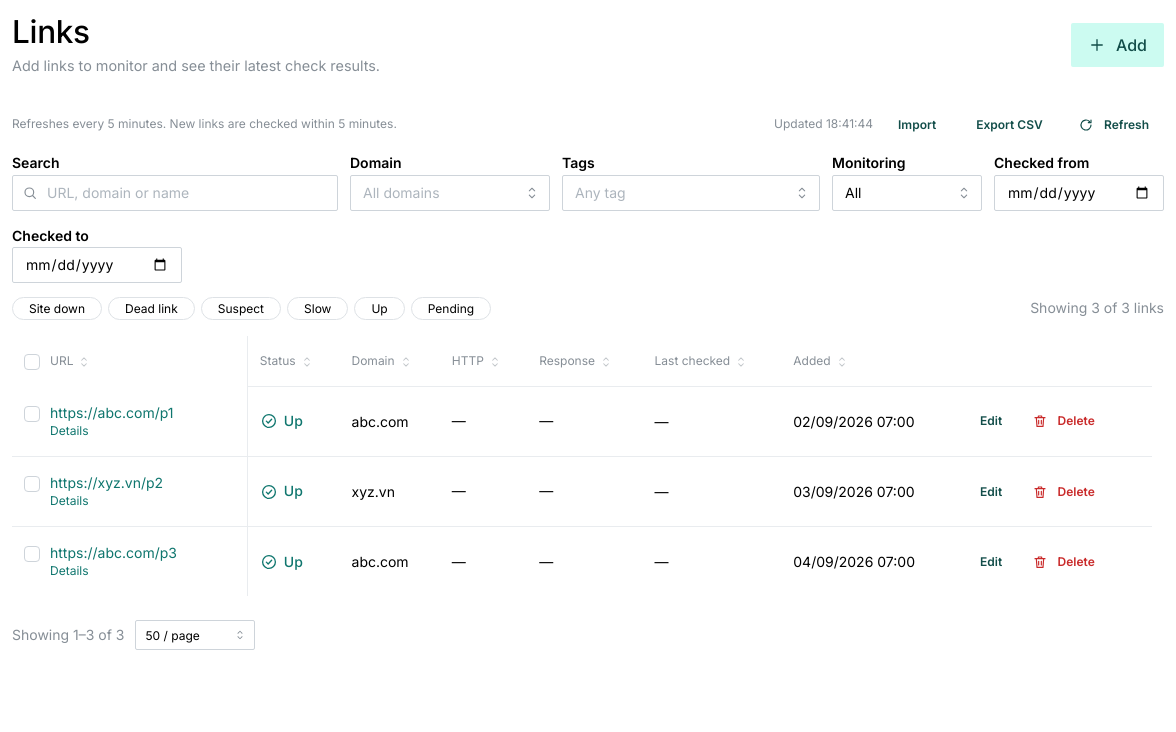
Scenario: LinksPage — bulk actions (FR-04, FR-16) › FR-04: select two links and pause them — shown as paused at once
Expected: the link "https://abc.com/p1" is shown, [50, 403, 174, 423]
Click the checkbox named "Select https://abc.com/p1".
click(32, 414)  # box [24, 406, 40, 422]
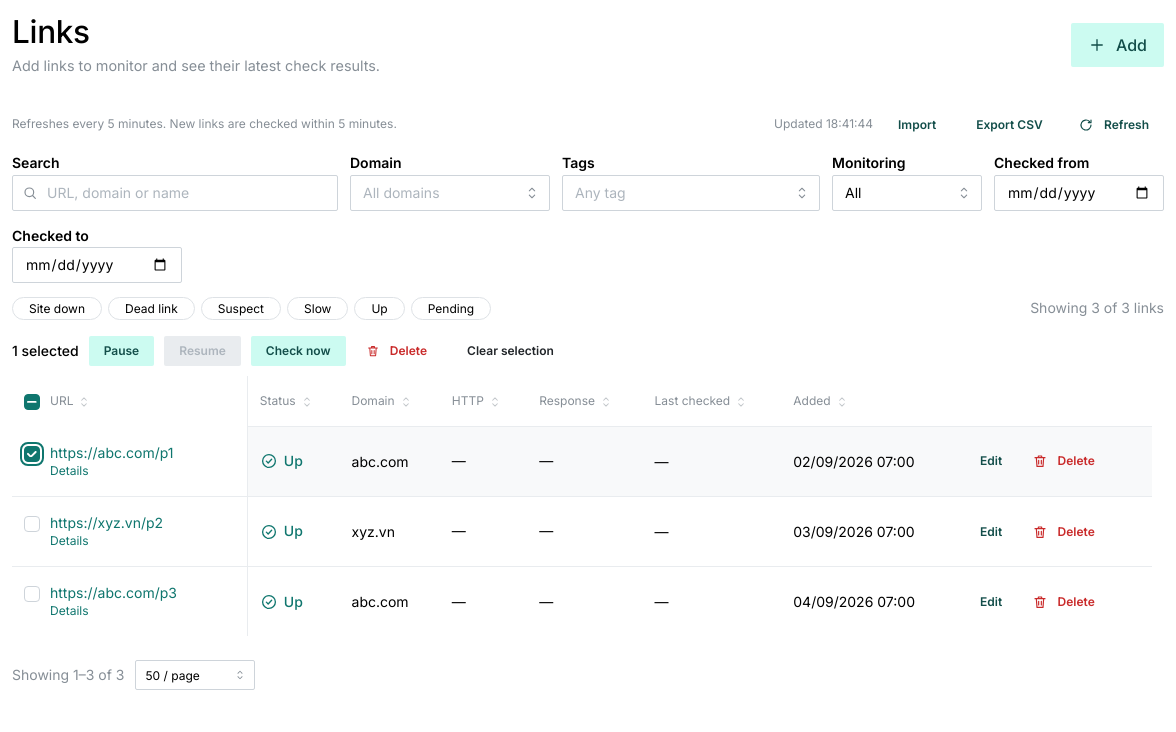
Click the checkbox named "Select https://xyz.vn/p2".
click(32, 524)  # box [24, 516, 40, 532]
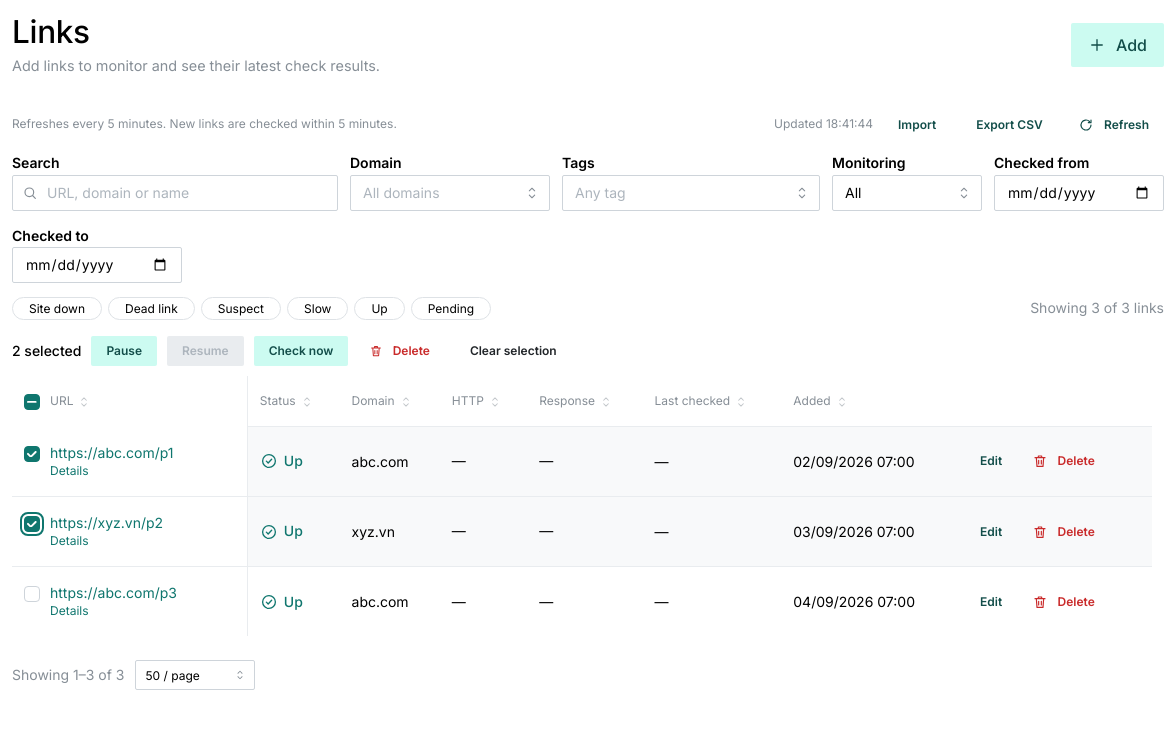
Expected: the text "2 selected" is shown, [12, 341, 82, 362]
Click the button "Pause".
click(124, 351)  # box [92, 336, 157, 366]
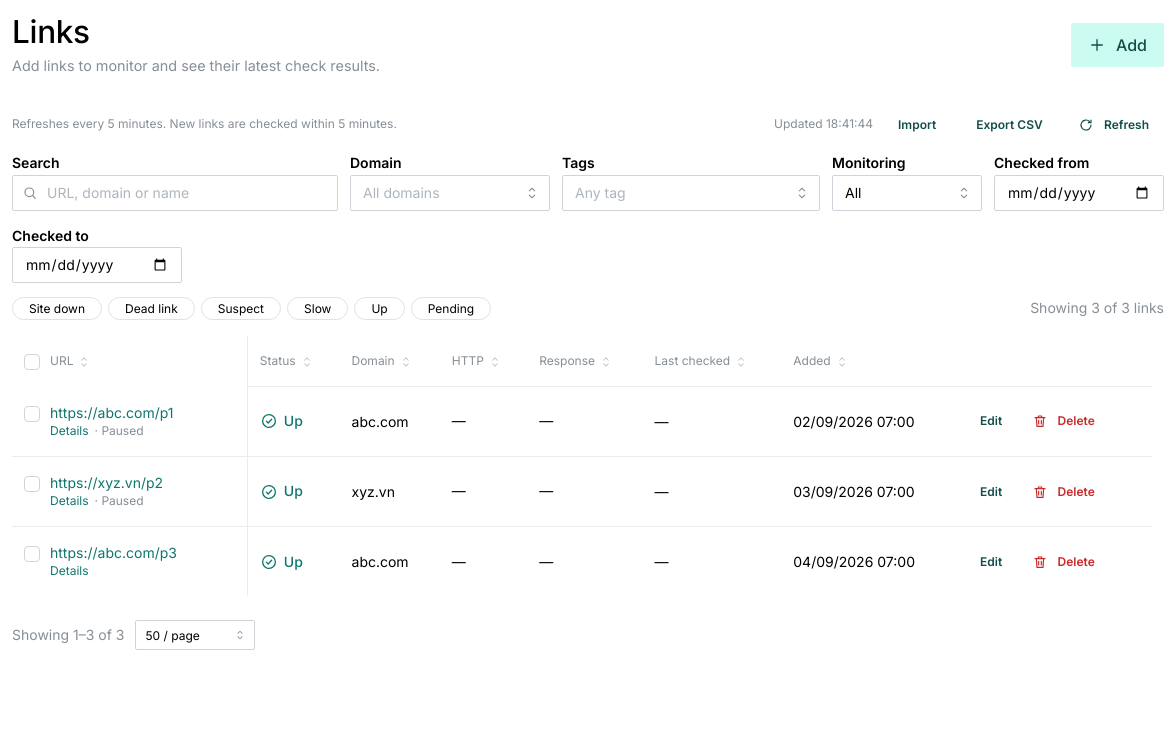
Expected: the text "· Paused" is shown 2 times, [94, 423, 144, 440]; [94, 493, 144, 510]
